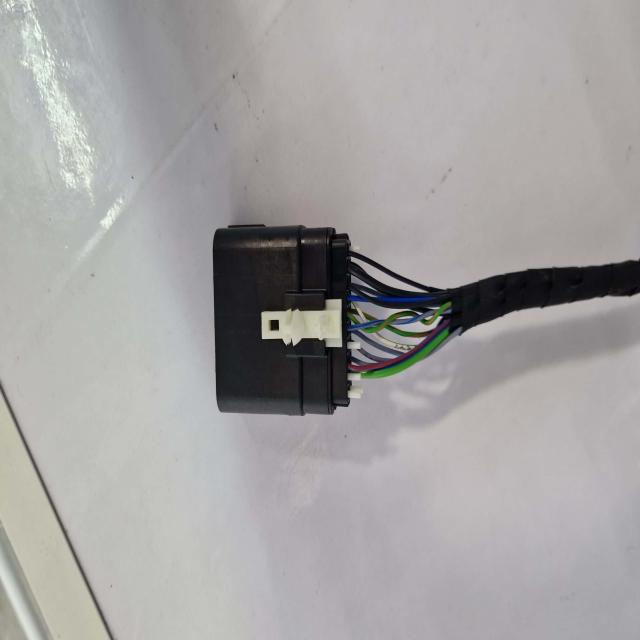Connector: (211, 224, 350, 417)
Gape: (348, 249, 456, 384)
MHEV_N11_Cable: (449, 258, 640, 332)
